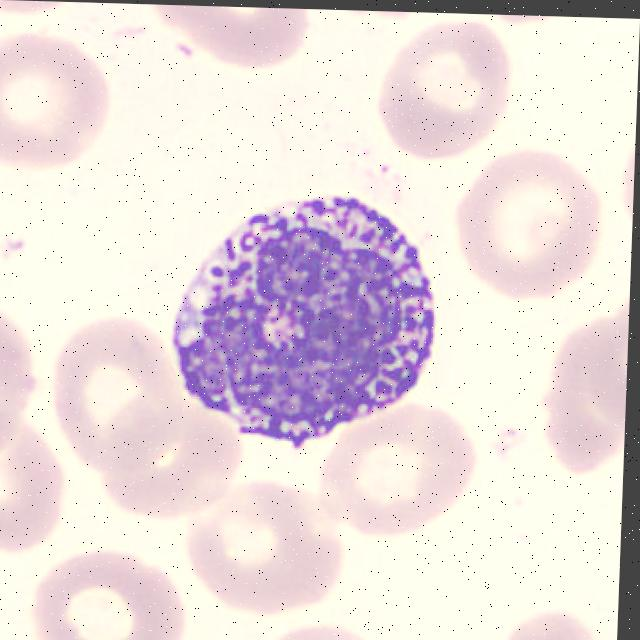basophil: (154, 185, 443, 454)
rbc: (313, 399, 495, 545), (167, 486, 345, 625), (450, 149, 599, 301), (523, 290, 630, 496), (372, 11, 515, 163), (88, 402, 248, 535), (52, 308, 182, 470), (0, 29, 114, 178), (25, 543, 189, 640), (130, 4, 313, 80), (0, 405, 73, 557), (0, 295, 39, 460), (588, 314, 629, 435), (491, 606, 614, 640), (256, 614, 384, 640), (0, 0, 74, 24)
